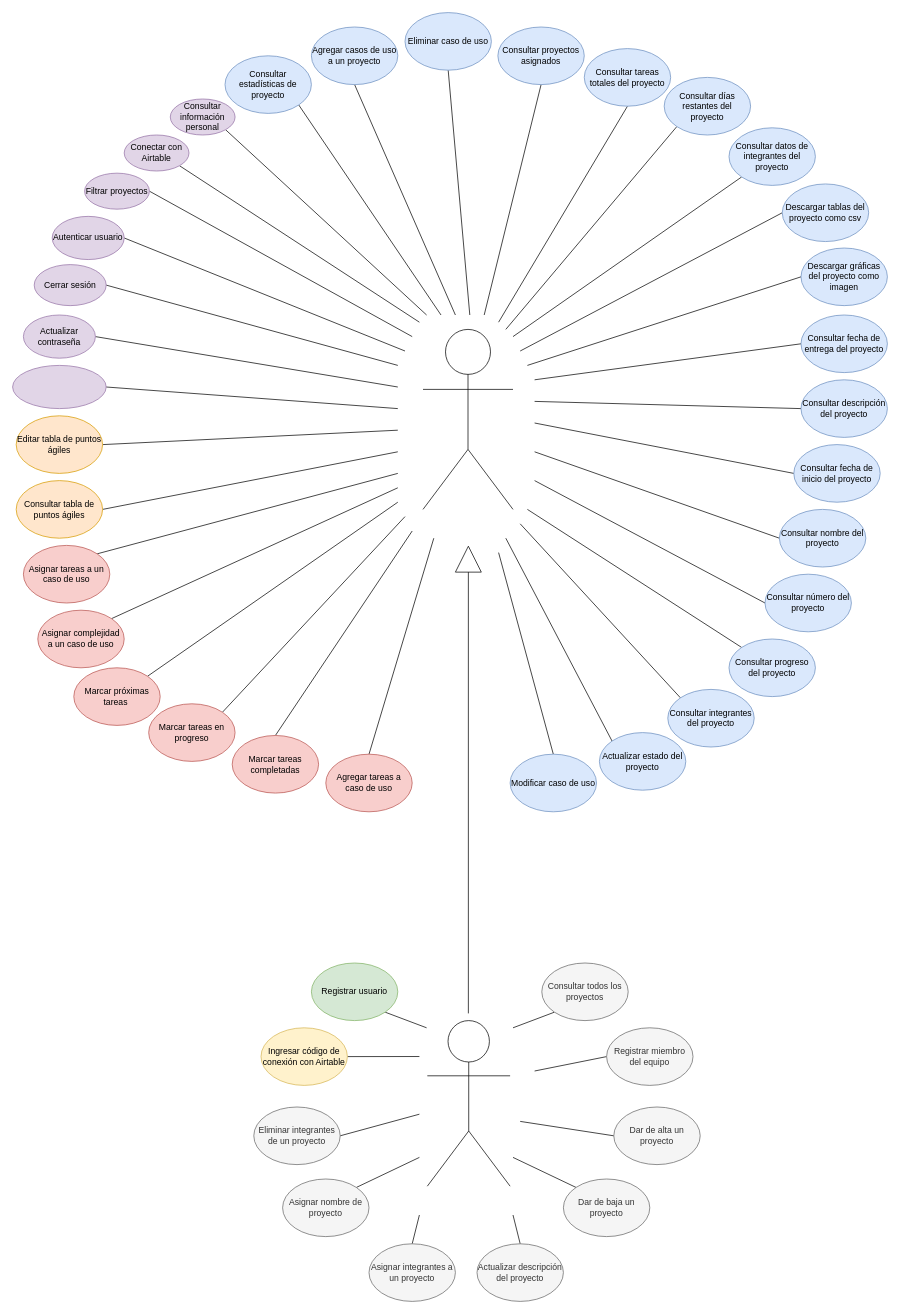
The diagram is 900 pixels wide and 1314 high, and some of its shapes have lost their labels. The centre of each missing label's shape, as x and y in pixels:
"Actualizar datos de puntos ágiles" goes at point (59, 387).
"Líder del proyecto" goes at point (468, 1103).
"Usuario" goes at point (467, 419).
